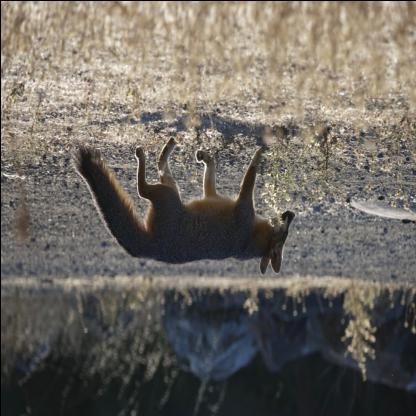zorro: (64, 124, 302, 282)
